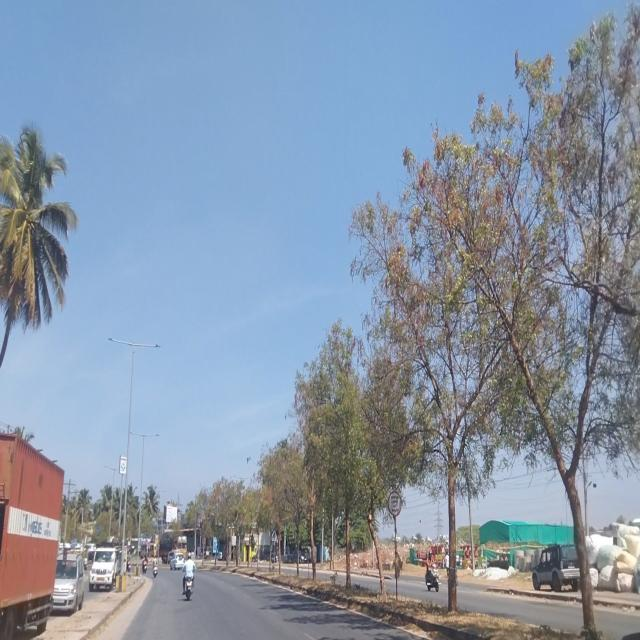bien_cam: (387, 488, 402, 518)
